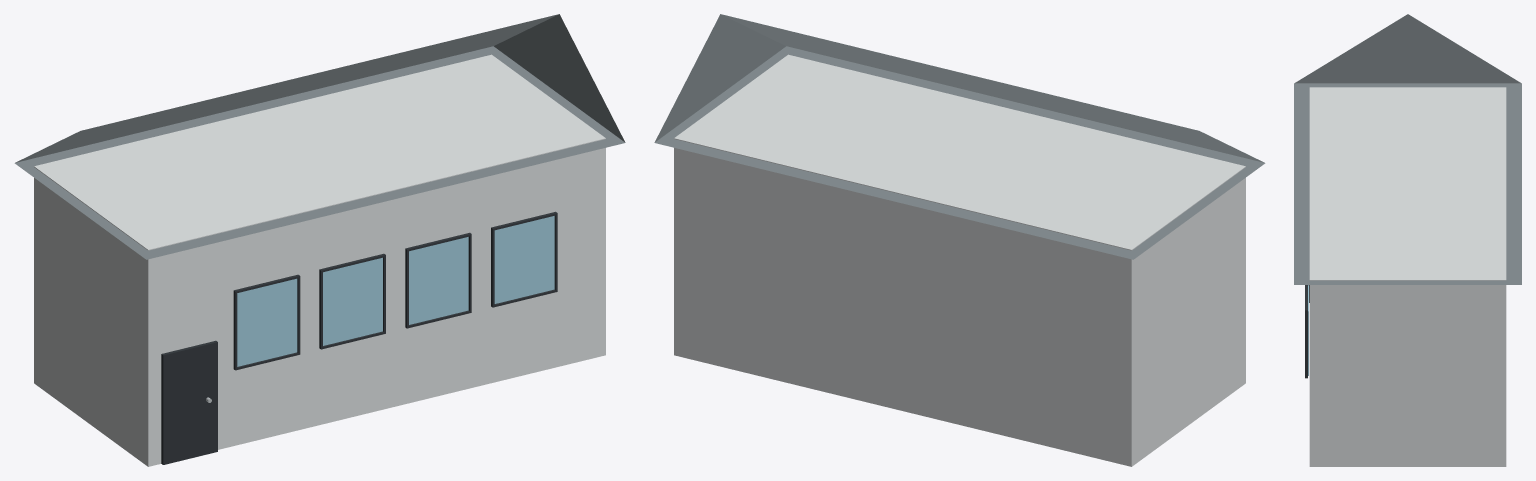
Rendered from house.glb.
The picture shows the model from 3 angles, left to right: view 1: azimuth 30°, elevation 25°; view 2: azimuth 150°, elevation 25°; view 3: azimuth 270°, elevation 25°; orthographic projection. The views are drawn at different scales.
Parts seen in each view (by area): view 1: house_body, house_roof, door, window_0, window_3, window_1, window_2; view 2: house_body, house_roof; view 3: house_body, house_roof.
Boxes of the visible parts, box(x1,y1,x2,y2) form: house_body: box(34, 54, 605, 466); house_roof: box(14, 14, 625, 259); door: box(161, 340, 217, 464); window_0: box(237, 278, 297, 366); window_3: box(494, 216, 554, 303); window_1: box(323, 257, 382, 345); window_2: box(409, 237, 468, 324); house_body: box(674, 54, 1245, 466); house_roof: box(654, 14, 1265, 259); house_body: box(1309, 87, 1506, 466); house_roof: box(1294, 14, 1521, 284).
Bounding box in the file's own units: 10.05 × 5.95 × 4.8.
